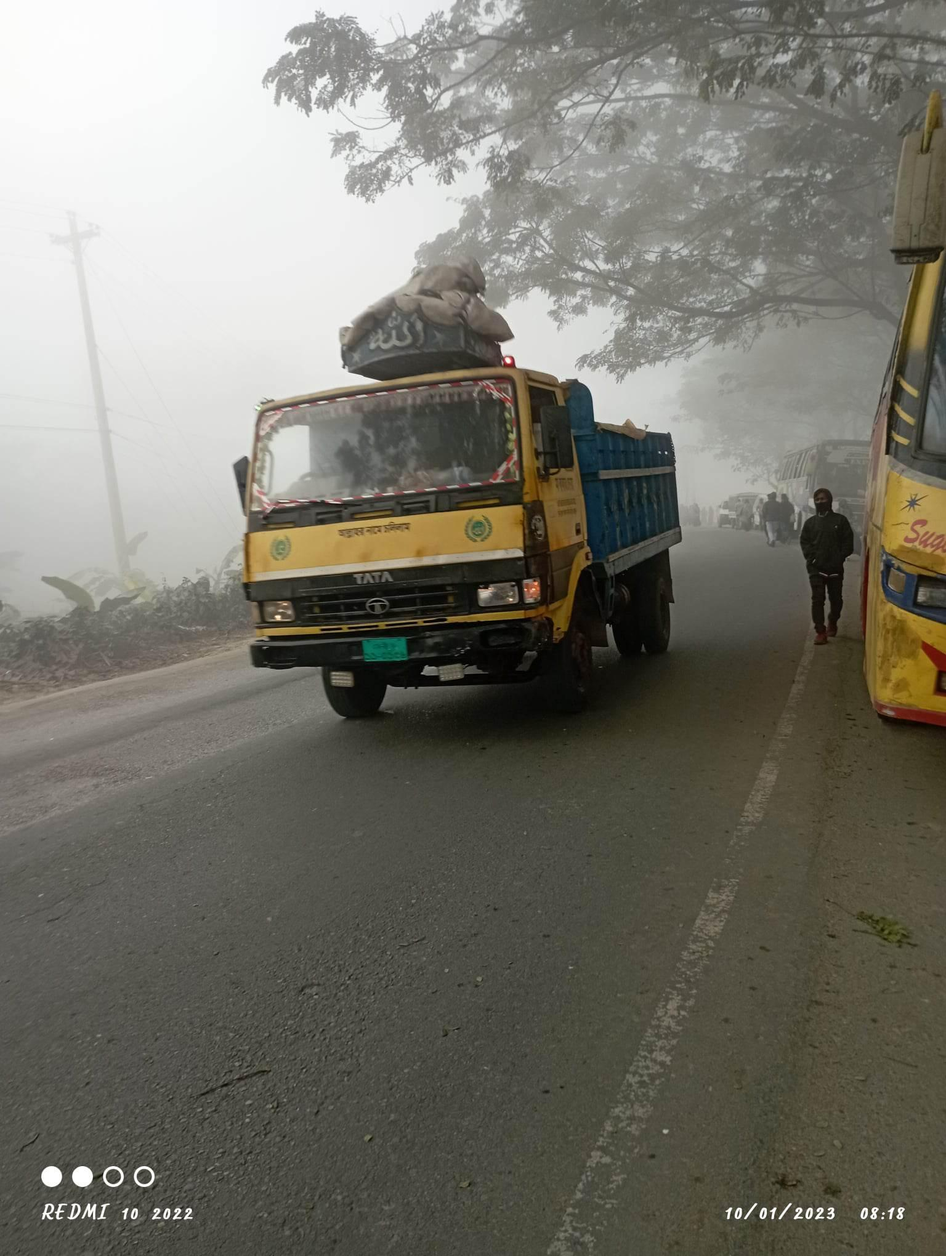Bus: (757, 425, 868, 549)
Truck: (222, 262, 700, 726)
